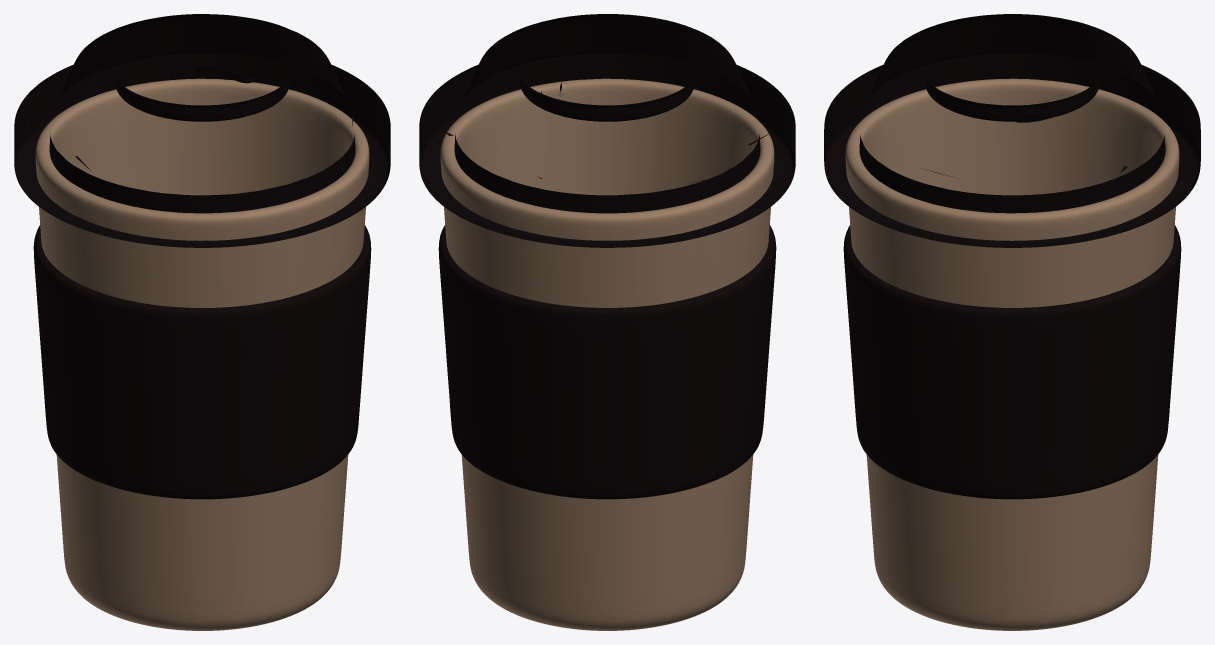
File: takeaway-cup.glb
3 views of the same model, side by side, from view 1: azimuth 30°, elevation 25°; view 2: azimuth 150°, elevation 25°; view 3: azimuth 270°, elevation 25° (orthographic).
Visible parts, largest first — view 1: takeaway; view 2: takeaway; view 3: takeaway.
Part boxes in pixels (x1,y1,x2,y2): takeaway: (14,14,390,630); takeaway: (419,14,795,630); takeaway: (824,14,1200,630).
Size of the model in its own units: 1.28 by 1.94 by 1.28.
